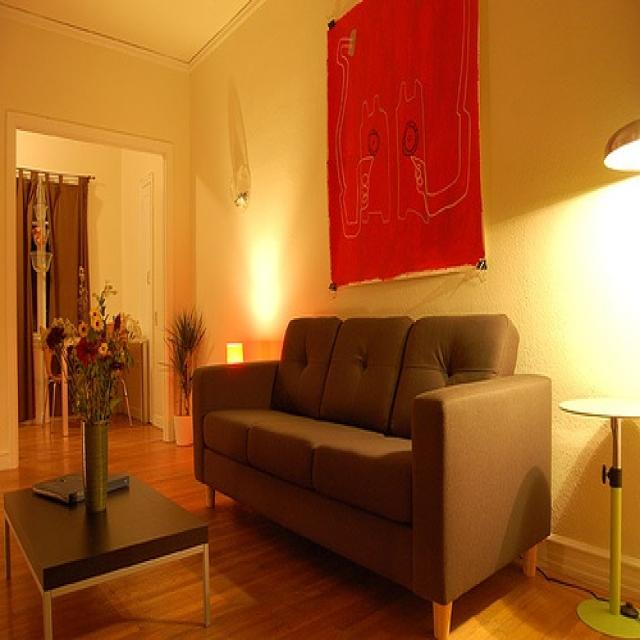pottedplant: (159, 308, 202, 453)
sofa: (195, 312, 554, 636)
